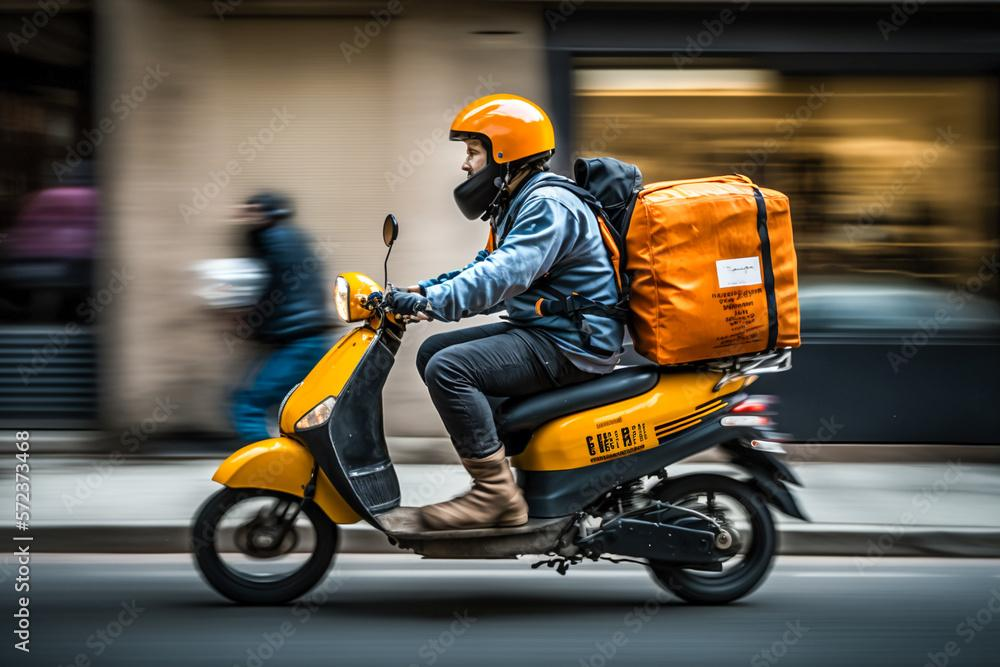helmet: (448, 92, 556, 223)
